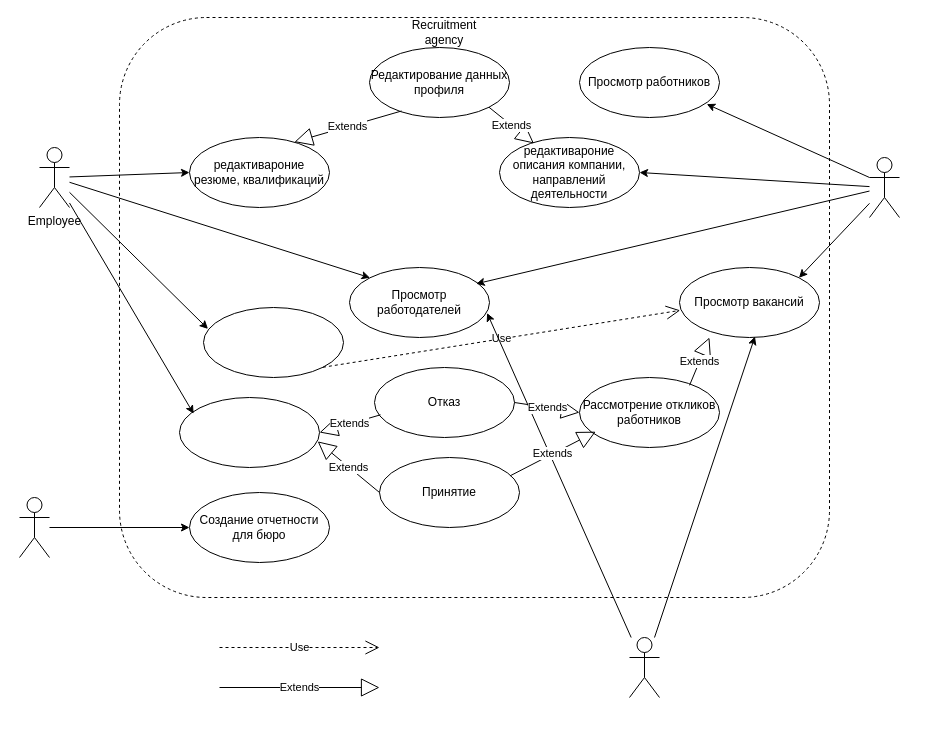
This 927x736 diagram has some shape labels left out. Here are the shapes that lost their labels. From the top down, the centre of each, then its label:
At [884,187]: "Employer".
At [273,342]: "Отклик на вакансию".
At [249,432]: "Рассмотрение предложений работодателей".
At [34,527]: "Admin".
At [644,667]: "Anonymus".
